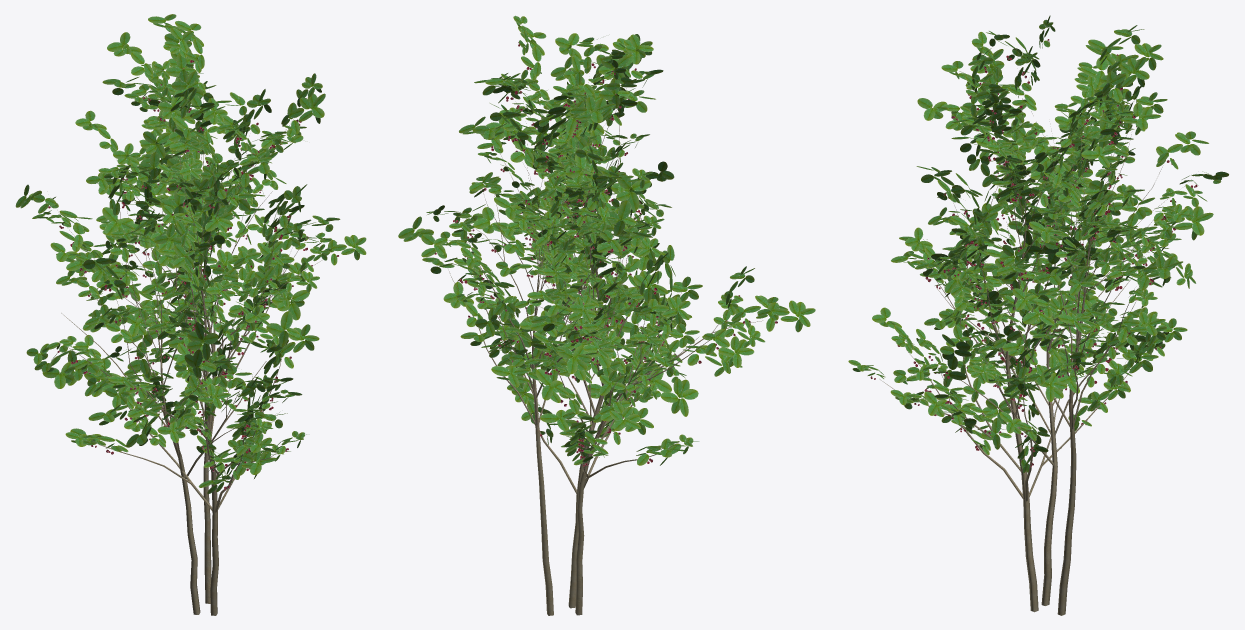
The model's file is juneberry_nocolor.fbx.
The picture shows the model from 3 angles, left to right: view 1: azimuth 30°, elevation 25°; view 2: azimuth 150°, elevation 25°; view 3: azimuth 270°, elevation 25°; orthographic projection. The views are drawn at different scales.
Parts seen in each view (by area): view 1: Tree, Tree.001, Tree.002, 059.148, 059.025, 059.140, 059.044, 059.166, 059.308, 059.053, 059.299, 059.117 (+27 smaller); view 2: Tree.002, Tree.001, Tree, 059.192, 059.217, 059.213, 059.063, 059.298, 059.220, 059.183, 059.189, 059.198 (+18 smaller); view 3: Tree, Tree.002, Tree.001, 059.042, 059.082, 059.080, 059.244, 059.169, 059.306, 059.240, 059.298, 059.267 (+18 smaller).
Part boxes in pixels (x1,y1,x2,y2): Tree: [84, 98, 321, 615]; Tree.001: [61, 196, 266, 614]; Tree.002: [120, 92, 298, 603]; 059.148: [266, 288, 309, 347]; 059.025: [184, 322, 220, 378]; 059.140: [281, 93, 325, 134]; 059.044: [138, 131, 170, 179]; 059.166: [42, 357, 103, 388]; 059.308: [107, 32, 153, 79]; 059.053: [154, 223, 194, 268]; 059.299: [102, 207, 156, 248]; 059.117: [273, 324, 319, 368]; Tree.002: [449, 115, 612, 615]; Tree.001: [515, 204, 725, 615]; Tree: [520, 79, 762, 608]; 059.192: [607, 172, 650, 235]; 059.217: [636, 367, 698, 416]; 059.213: [702, 329, 754, 367]; 059.063: [756, 300, 815, 332]; 059.298: [560, 97, 615, 132]; 059.220: [536, 369, 581, 414]; 059.183: [556, 345, 612, 373]; 059.189: [639, 296, 690, 326]; 059.198: [600, 398, 640, 430]; Tree: [880, 76, 1151, 612]; Tree.002: [985, 99, 1162, 615]; Tree.001: [936, 176, 1193, 605]; 059.042: [1102, 57, 1149, 101]; 059.082: [933, 334, 971, 387]; 059.080: [981, 398, 1011, 449]; 059.244: [1112, 312, 1165, 342]; 059.169: [1154, 206, 1213, 240]; 059.306: [1103, 103, 1161, 134]; 059.240: [1156, 131, 1208, 169]; 059.298: [1081, 39, 1123, 89]; 059.267: [1034, 372, 1079, 401].
Bounding box in the file's own units: 159 × 256 × 156.
Materials: 4 (4 with a texture image).
